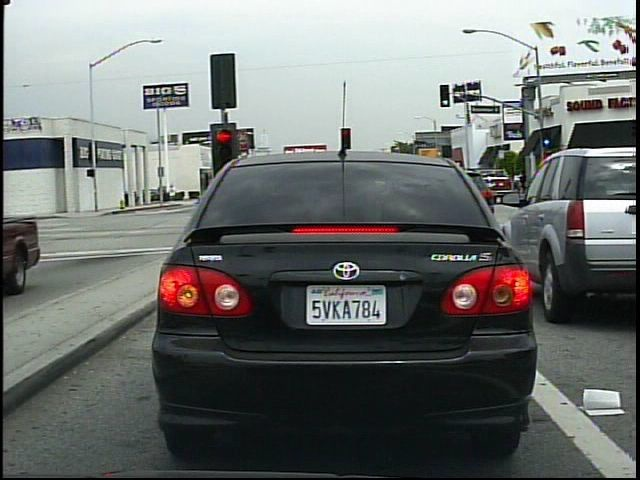person: (516, 168, 530, 196), (166, 180, 179, 207)
